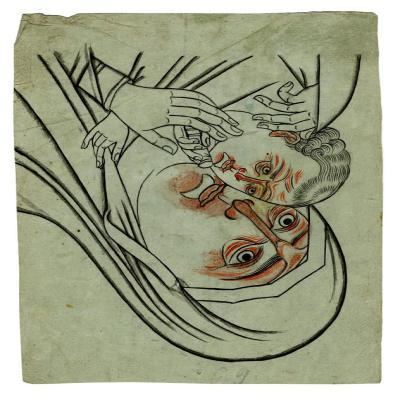graphics: (13, 12, 383, 385)
